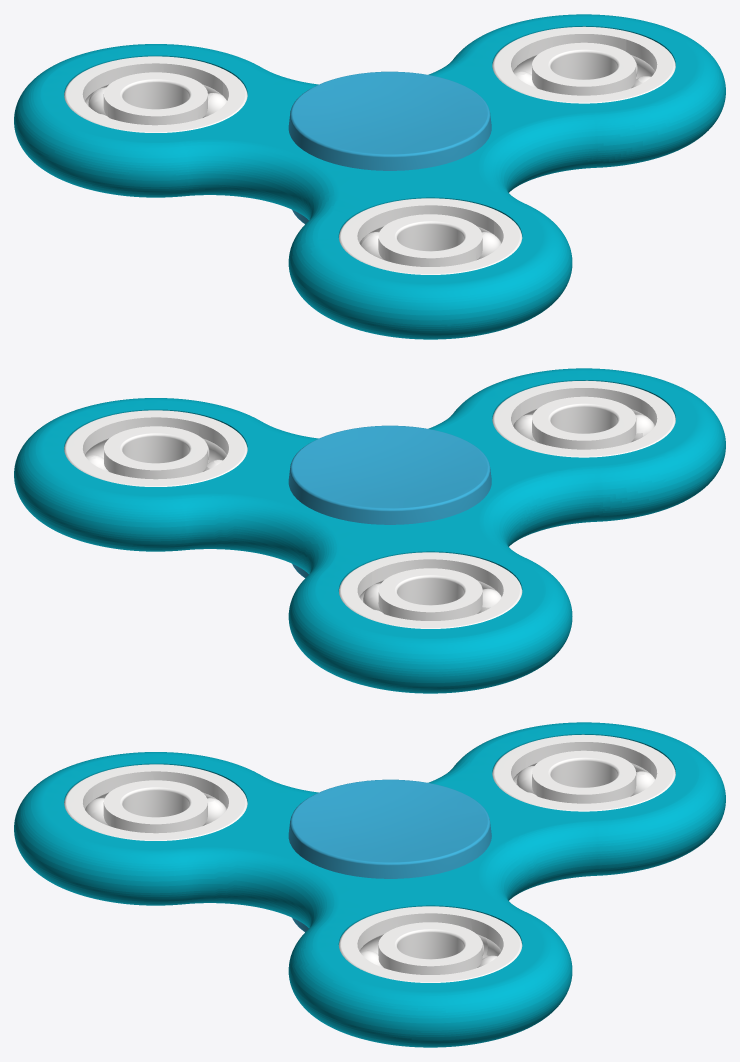
The model's file is spinner.glb.
3 renders of one model, top to bottom at view 1: azimuth 30°, elevation 25°; view 2: azimuth 150°, elevation 25°; view 3: azimuth 270°, elevation 25°, orthographic.
Visible parts, largest first — view 1: Object_13, Object_42, Object_11, Object_12, Object_10, Object_9, Object_38, Object_28, Object_33, Object_8, Object_17, Object_19 (+7 smaller); view 2: Object_42, Object_13, Object_12, Object_11, Object_10, Object_8, Object_28, Object_38, Object_33, Object_9, Object_17, Object_18 (+7 smaller); view 3: Object_13, Object_42, Object_11, Object_10, Object_12, Object_8, Object_28, Object_9, Object_38, Object_33, Object_17, Object_18 (+6 smaller).
Part boxes in pixels (x1=…): Object_13: x1=40, y1=32, x2=719, y2=302; Object_42: x1=288, y1=71, x2=491, y2=170; Object_11: x1=229, y1=14, x2=711, y2=291; Object_12: x1=33, y1=15, x2=717, y2=300; Object_10: x1=16, y1=74, x2=725, y2=326; Object_9: x1=18, y1=55, x2=725, y2=326; Object_38: x1=64, y1=56, x2=247, y2=132; Object_28: x1=492, y1=26, x2=675, y2=103; Object_33: x1=339, y1=198, x2=522, y2=274; Object_8: x1=22, y1=44, x2=724, y2=315; Object_17: x1=14, y1=100, x2=723, y2=335; Object_19: x1=14, y1=124, x2=708, y2=338; Object_42: x1=288, y1=425, x2=491, y2=524; Object_13: x1=20, y1=379, x2=719, y2=638; Object_12: x1=19, y1=390, x2=717, y2=643; Object_11: x1=28, y1=368, x2=709, y2=555; Object_10: x1=14, y1=397, x2=725, y2=664; Object_8: x1=15, y1=411, x2=724, y2=654; Object_28: x1=64, y1=410, x2=247, y2=486; Object_38: x1=339, y1=552, x2=522, y2=628; Object_33: x1=492, y1=380, x2=675, y2=457; Object_9: x1=14, y1=411, x2=725, y2=661; Object_17: x1=16, y1=459, x2=723, y2=676; Object_18: x1=17, y1=464, x2=722, y2=686; Object_13: x1=21, y1=724, x2=699, y2=1010; Object_42: x1=288, y1=779, x2=491, y2=878; Object_11: x1=31, y1=752, x2=557, y2=1001; Object_10: x1=14, y1=757, x2=723, y2=1034; Object_12: x1=22, y1=722, x2=706, y2=1012; Object_8: x1=15, y1=722, x2=717, y2=1023; Object_28: x1=338, y1=906, x2=522, y2=982; Object_9: x1=14, y1=727, x2=721, y2=1034; Object_38: x1=492, y1=734, x2=675, y2=811; Object_33: x1=64, y1=764, x2=247, y2=840; Object_17: x1=16, y1=780, x2=725, y2=1043; Object_18: x1=17, y1=790, x2=725, y2=1047.
Bounding box in the file's own units: 8.26 × 1.19 × 8.53.
